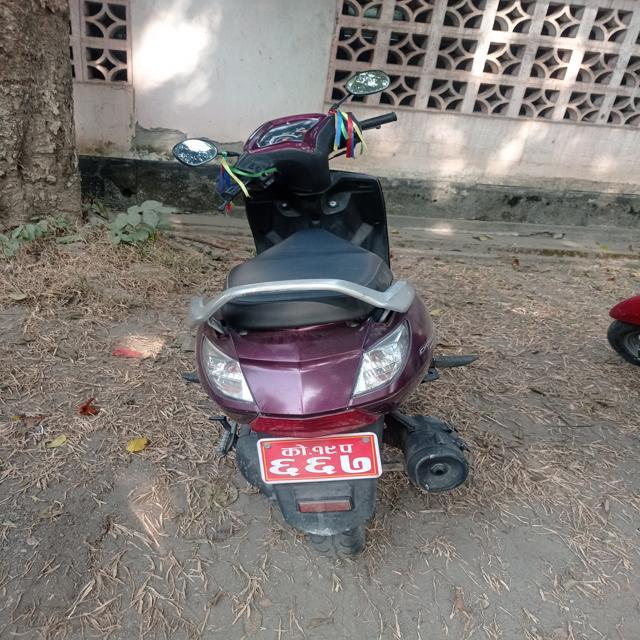license_plate: (246, 416, 387, 496)
